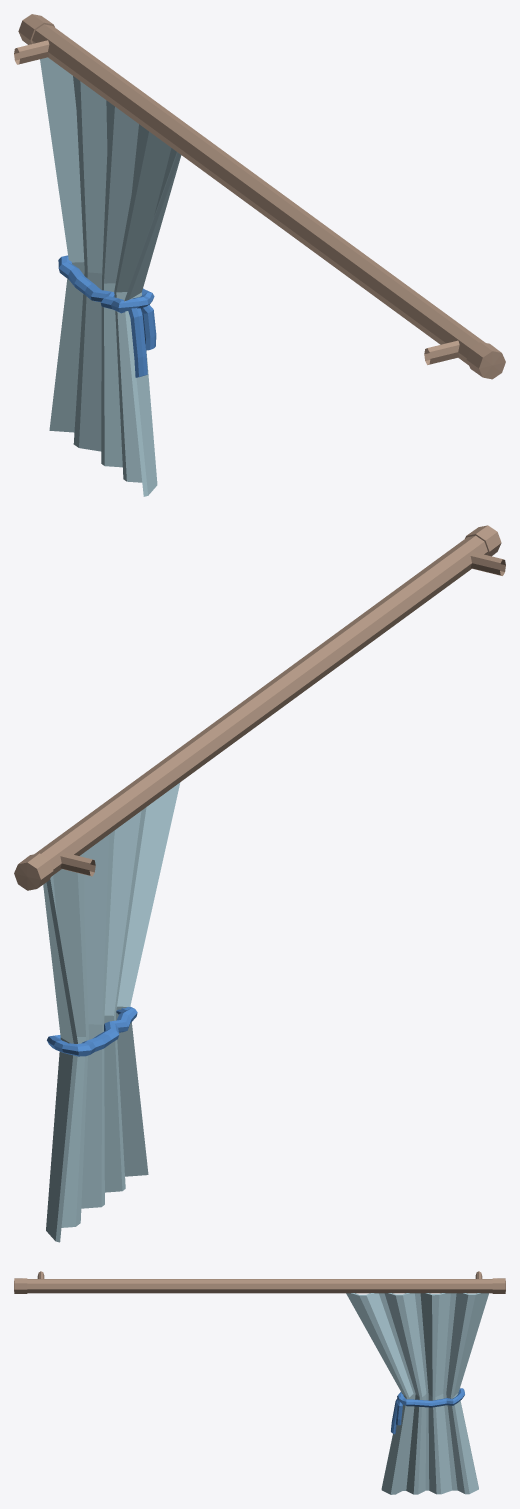
File: Curtains_5.fbx
The picture shows the model from 3 angles, top to bottom: view 1: azimuth 30°, elevation 25°; view 2: azimuth 150°, elevation 25°; view 3: azimuth 270°, elevation 25°; orthographic projection. The views are drawn at different scales.
Parts seen in each view (by area): view 1: Curtains_5; view 2: Curtains_5; view 3: Curtains_5.
Boxes of the visible parts, <box> form: Curtains_5: <box>14,14,505,496</box>; Curtains_5: <box>14,525,505,1242</box>; Curtains_5: <box>14,1271,505,1494</box>.
Bounding box in the file's own units: 24.14 × 276 × 131.
